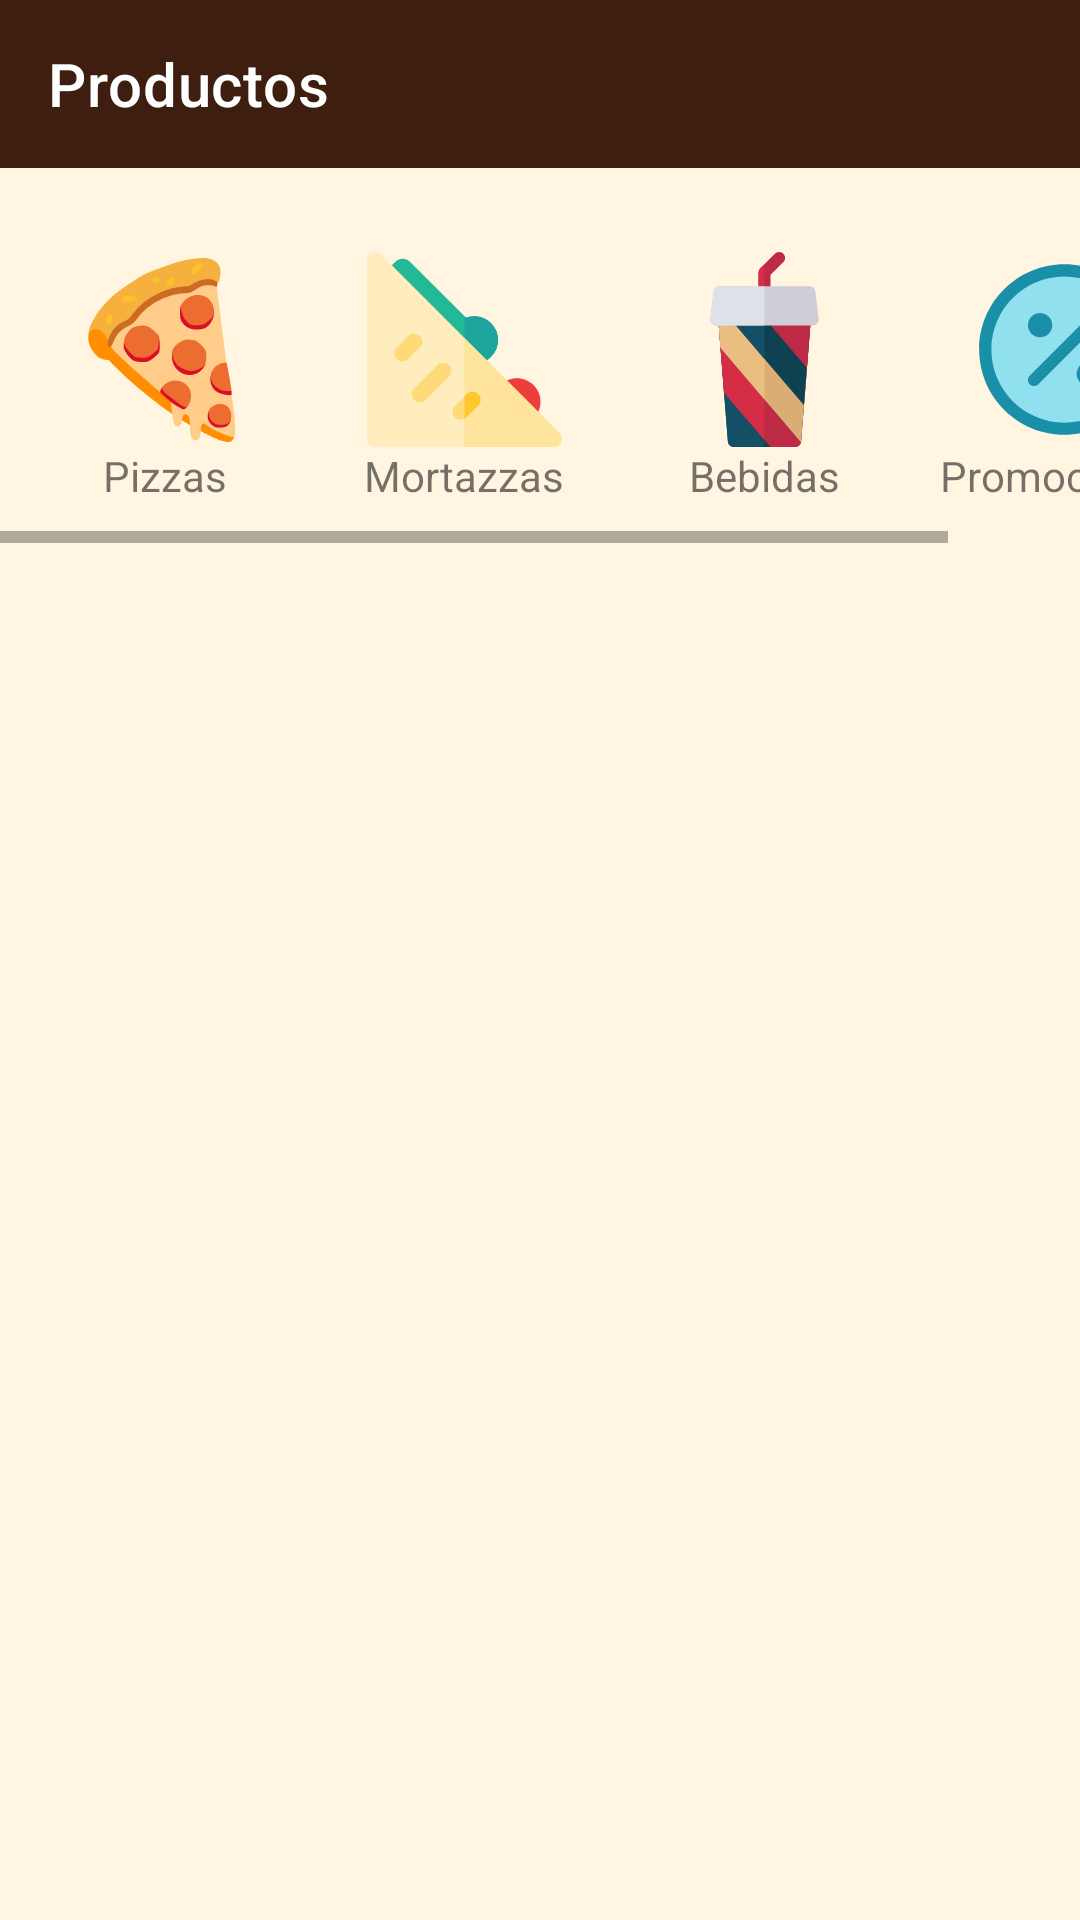

Icon bounding boxes for this 1080 x 1920 phone screenshot, format [x1=x1, y1=y1, x2=x2, y2=y2]:
soda: [x1=710, y1=252, x2=819, y2=447]
